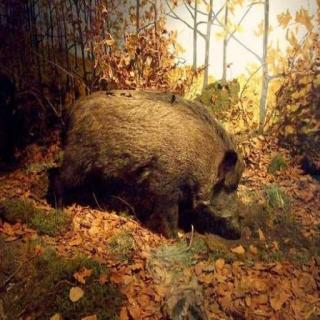Pig: (37, 46, 254, 261)
